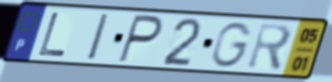2: (160, 16, 203, 68)
G: (209, 20, 255, 69)
I: (85, 12, 112, 63)
L: (36, 11, 68, 59)
P: (115, 13, 166, 66)
R: (244, 21, 294, 73)
